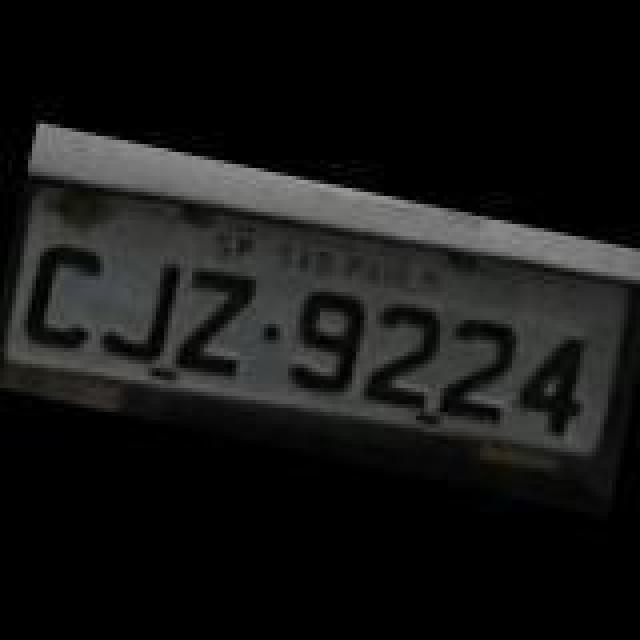2: (352, 294, 448, 402), (442, 316, 526, 420)
4: (508, 322, 596, 446)
9: (284, 274, 372, 398)
C: (12, 236, 100, 356)
J: (100, 248, 188, 360)
Z: (174, 256, 258, 376)
